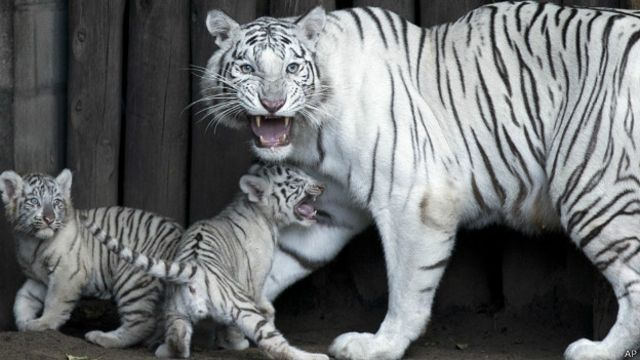Tigrew: (189, 9, 640, 335), (168, 136, 338, 353), (4, 156, 174, 341)
